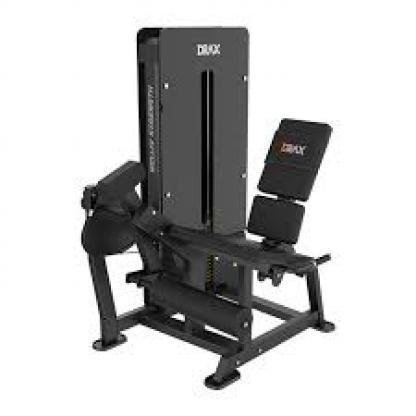leg extension: (72, 17, 342, 391)
